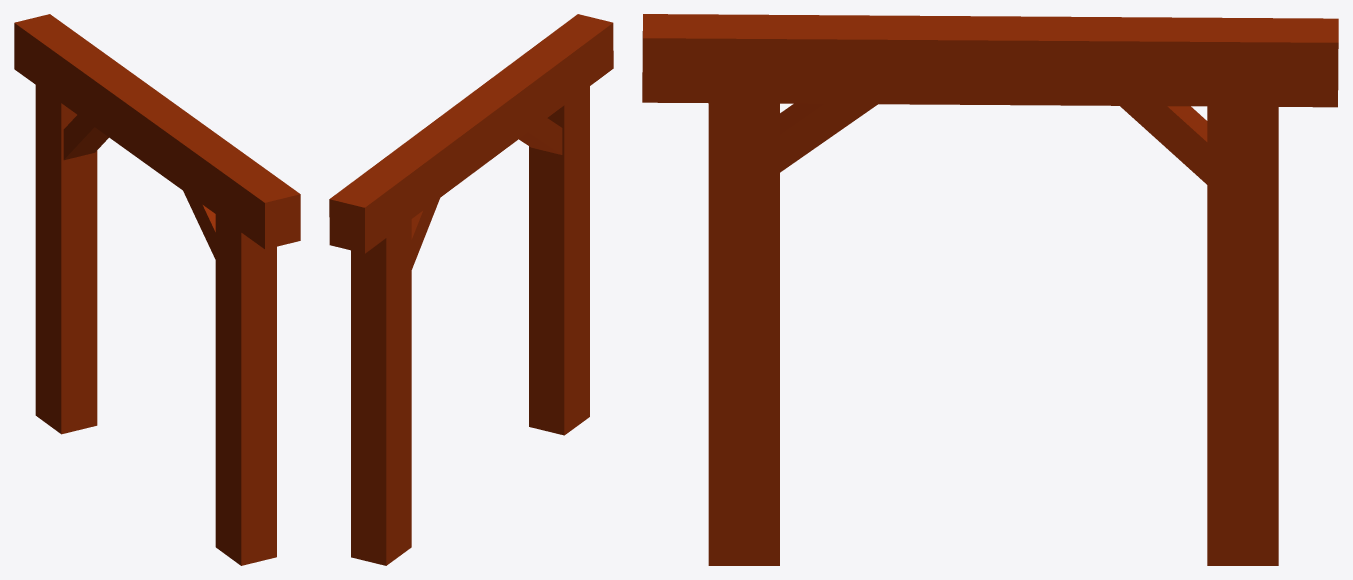
Rendered from mineEnter.fbx.
The picture shows the model from 3 angles, left to right: view 1: azimuth 30°, elevation 25°; view 2: azimuth 150°, elevation 25°; view 3: azimuth 270°, elevation 25°; orthographic projection. The views are drawn at different scales.
Parts seen in each view (by area): view 1: Cube.002, Cube, Cube.001, Cube.003, Cube.004; view 2: Cube.002, Cube.001, Cube, Cube.004, Cube.003; view 3: Cube.002, Cube, Cube.001, Cube.003, Cube.004.
Boxes of the visible parts, box(x1,y1,x2,y2) form: Cube.002: box(14, 14, 300, 249); Cube: box(215, 209, 276, 565); Cube.001: box(35, 78, 97, 434); Cube.003: box(63, 115, 108, 160); Cube.004: box(183, 191, 215, 259); Cube.002: box(329, 14, 613, 253); Cube.001: box(351, 213, 411, 565); Cube: box(529, 82, 589, 435); Cube.004: box(519, 118, 562, 154); Cube.003: box(411, 198, 439, 269); Cube.002: box(642, 14, 1338, 107); Cube: box(708, 97, 779, 565); Cube.001: box(1207, 97, 1278, 565); Cube.003: box(1120, 106, 1207, 184); Cube.004: box(780, 103, 877, 172).
Bounding box in the file's own units: 62.78 × 638 × 763.
